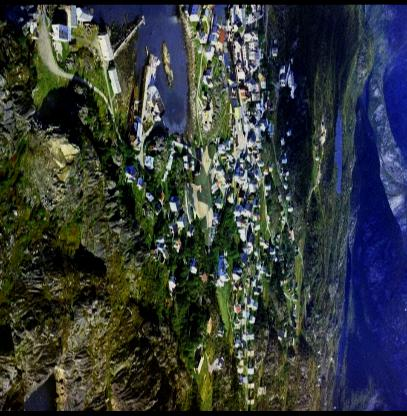F35: (184, 144, 215, 257)
